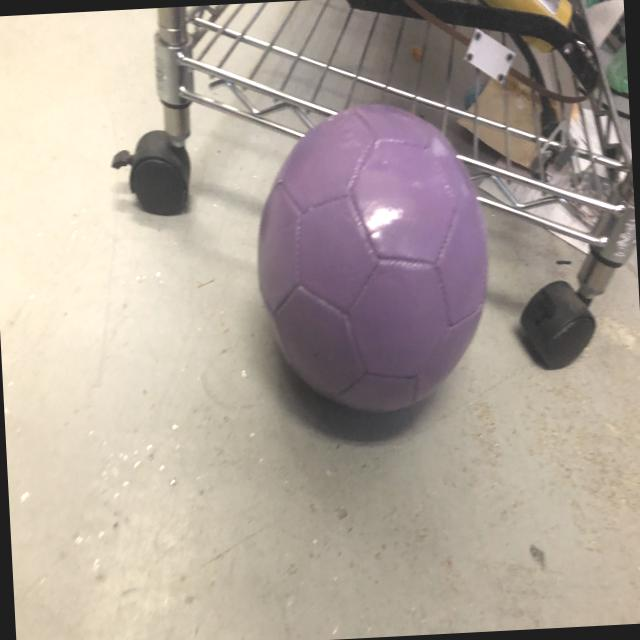purple_ball: (250, 101, 498, 422)
